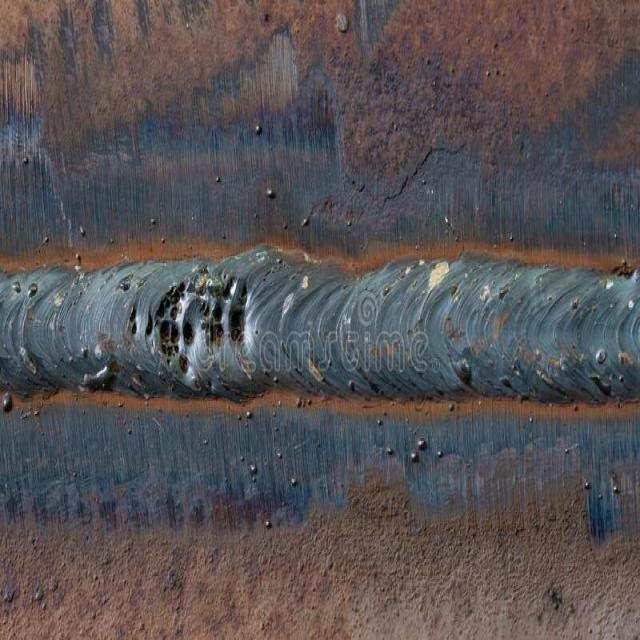Defect: (120, 266, 248, 377)
Good Weld: (253, 242, 640, 416), (2, 244, 112, 396)
